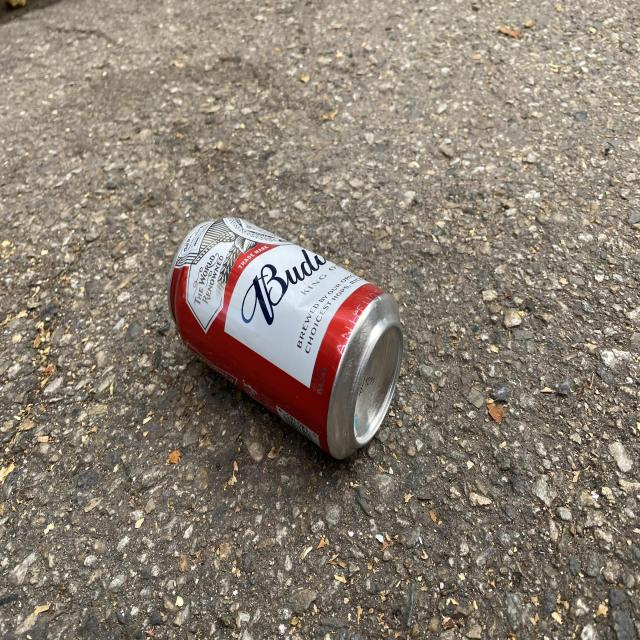can: (168, 217, 404, 459)
